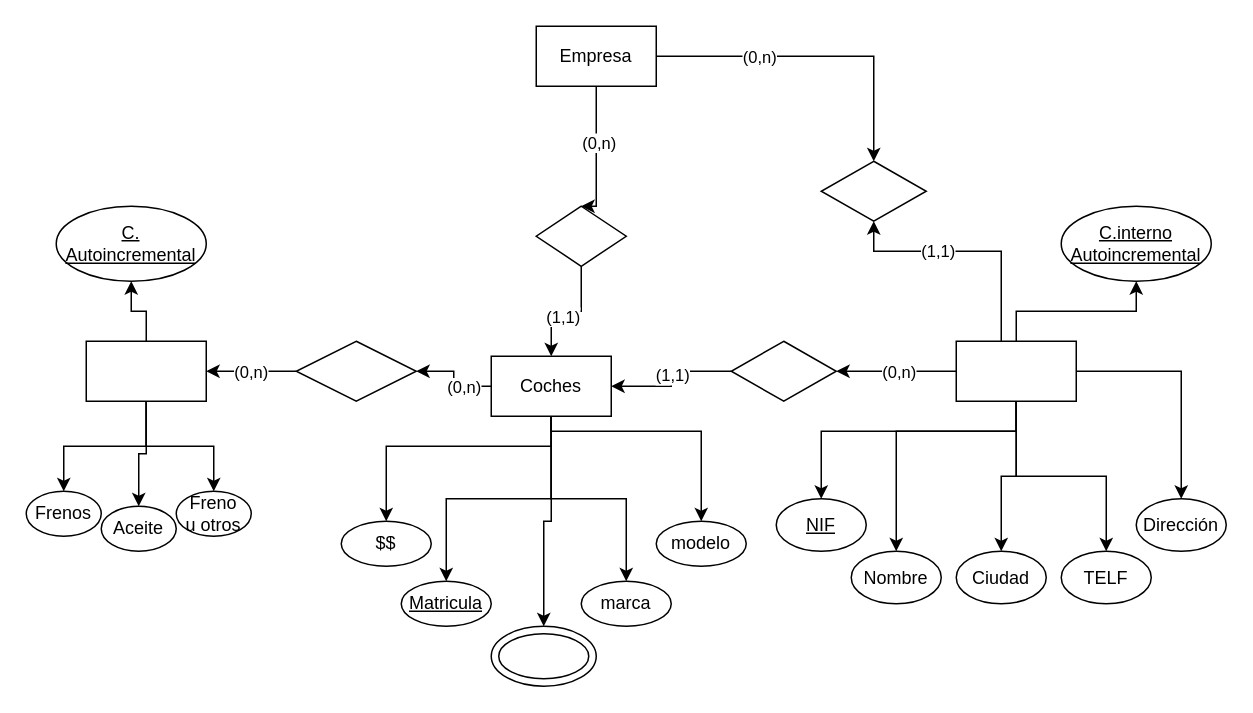
Image size: 1253x713. Some labels were removed from this diagram. Each missing label, with the centre of its shape:
Clientes: point 1015,370
color: point 543,655
compran: point 783,370
darse alta: point 873,190
hacer revision: point 355,370
Reviciones: point 145,370
vende: point 580,235
